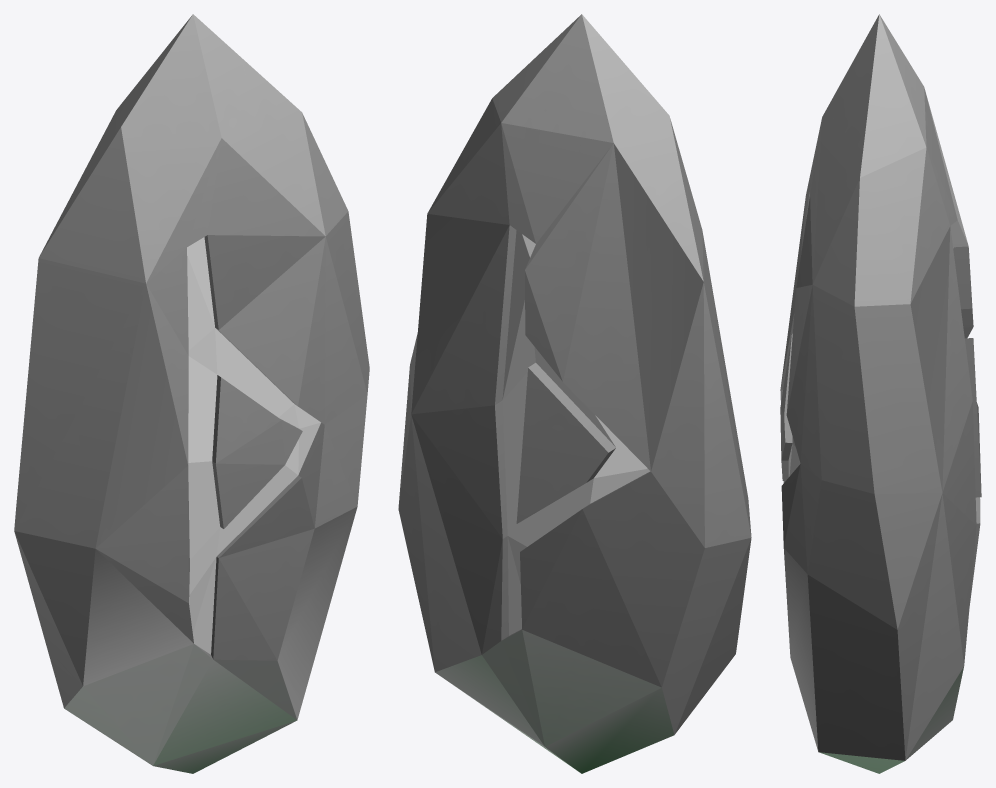
Rendered from runestone_floating_mossy.fbx.
3 views of the same model, side by side, from view 1: azimuth 30°, elevation 25°; view 2: azimuth 150°, elevation 25°; view 3: azimuth 270°, elevation 25° (orthographic).
Visible parts, largest first — view 1: runestone_floating_mossy; view 2: runestone_floating_mossy; view 3: runestone_floating_mossy.
Boxes of the visible parts, box(x1,y1,x2,y2) form: runestone_floating_mossy: box(14, 14, 369, 773); runestone_floating_mossy: box(398, 14, 751, 773); runestone_floating_mossy: box(780, 14, 981, 773).
Size of the model in its own units: 1.2 by 2.5 by 0.6.
Materials: 2 (1 with a texture image).
